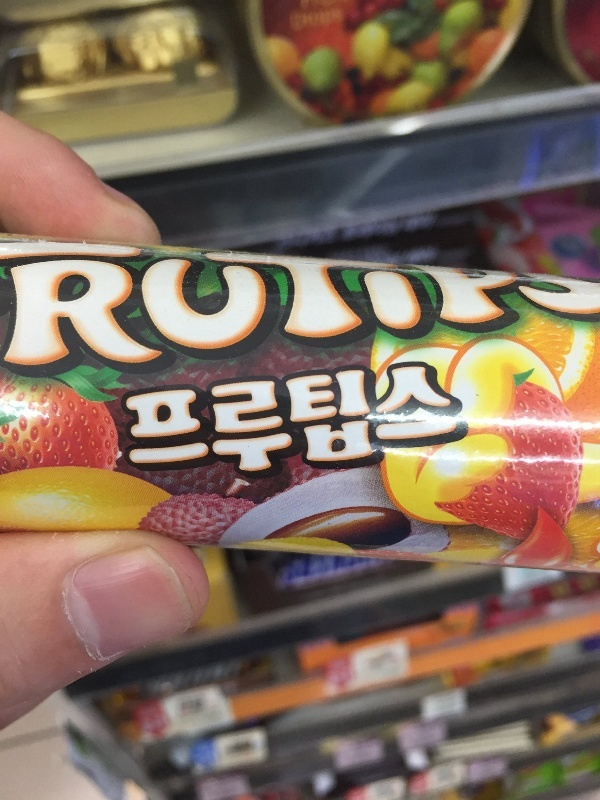text: (129, 353, 144, 492), (145, 353, 160, 492), (161, 353, 176, 492), (177, 353, 192, 492), (193, 353, 208, 492), (209, 353, 224, 492), (225, 353, 240, 492), (241, 353, 256, 492), (257, 353, 272, 492), (273, 353, 288, 492), (289, 353, 304, 492), (305, 353, 320, 492), (321, 353, 336, 492), (337, 353, 352, 492), (353, 353, 368, 492), (369, 353, 384, 492), (385, 353, 400, 492), (401, 353, 416, 492), (417, 353, 432, 492), (433, 353, 448, 492), (449, 353, 464, 492), (17, 256, 32, 389), (33, 256, 48, 389), (49, 256, 64, 389), (65, 256, 80, 389), (81, 256, 96, 389), (97, 256, 112, 389), (113, 256, 128, 389), (129, 256, 144, 389), (145, 256, 160, 389), (161, 256, 176, 389), (177, 256, 192, 389), (193, 256, 208, 389), (209, 256, 224, 389), (225, 256, 240, 389), (241, 256, 256, 389), (257, 256, 272, 389), (273, 256, 288, 389), (289, 256, 304, 389), (305, 256, 320, 389), (321, 256, 336, 389), (337, 256, 352, 389), (353, 256, 368, 389), (369, 256, 384, 389), (385, 256, 400, 389), (401, 256, 416, 389), (417, 256, 432, 389), (433, 256, 448, 389), (449, 256, 464, 389), (465, 256, 480, 389), (481, 256, 496, 389), (497, 256, 512, 389), (3, 256, 16, 389), (465, 353, 477, 492), (513, 256, 520, 389), (529, 264, 544, 325), (545, 264, 560, 325), (561, 264, 576, 325), (577, 264, 592, 325), (123, 353, 128, 492), (519, 264, 528, 325), (593, 264, 600, 325)
